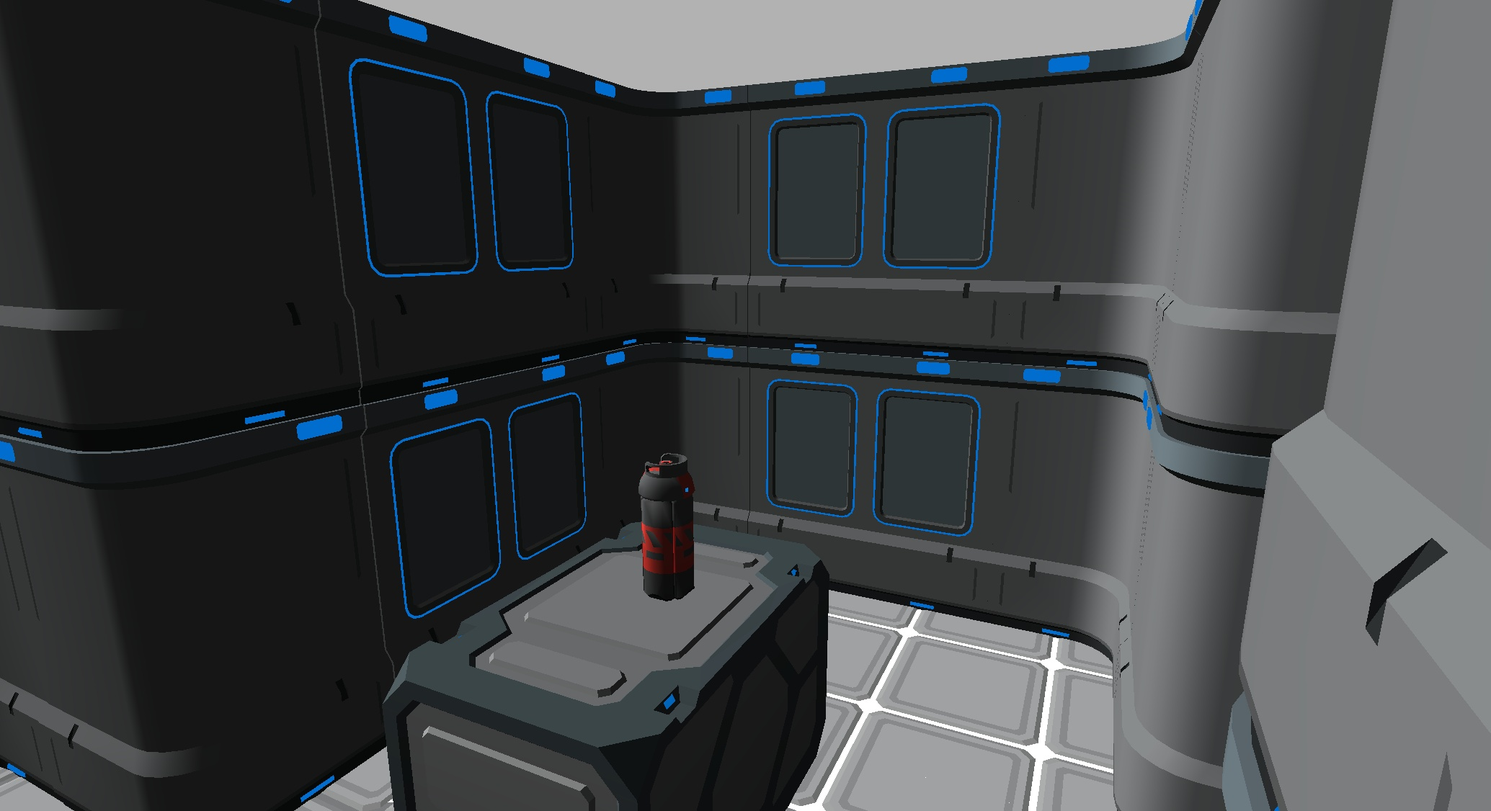red_barrel: (639, 454, 694, 600)
